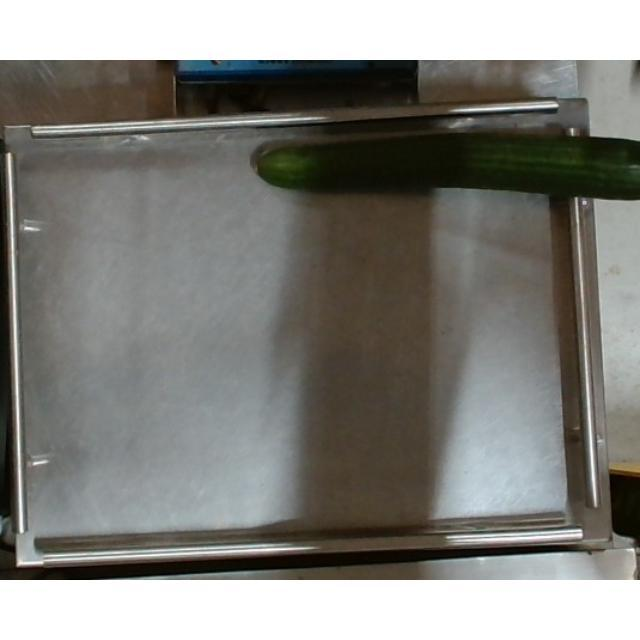cucumber: (254, 132, 640, 196)
